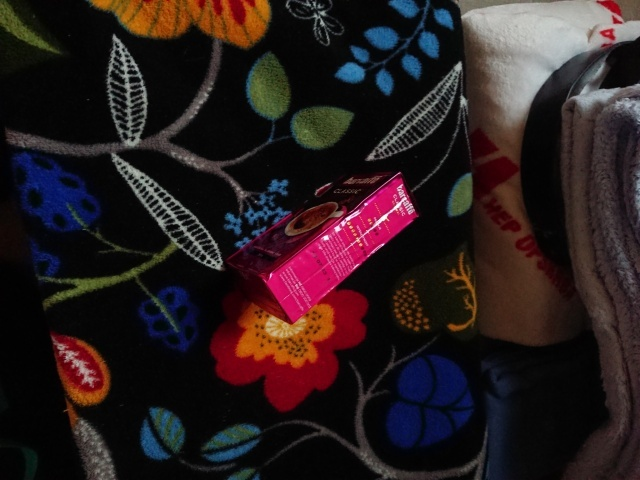Barcaffe Classic Original 225g: (221, 167, 421, 327)
